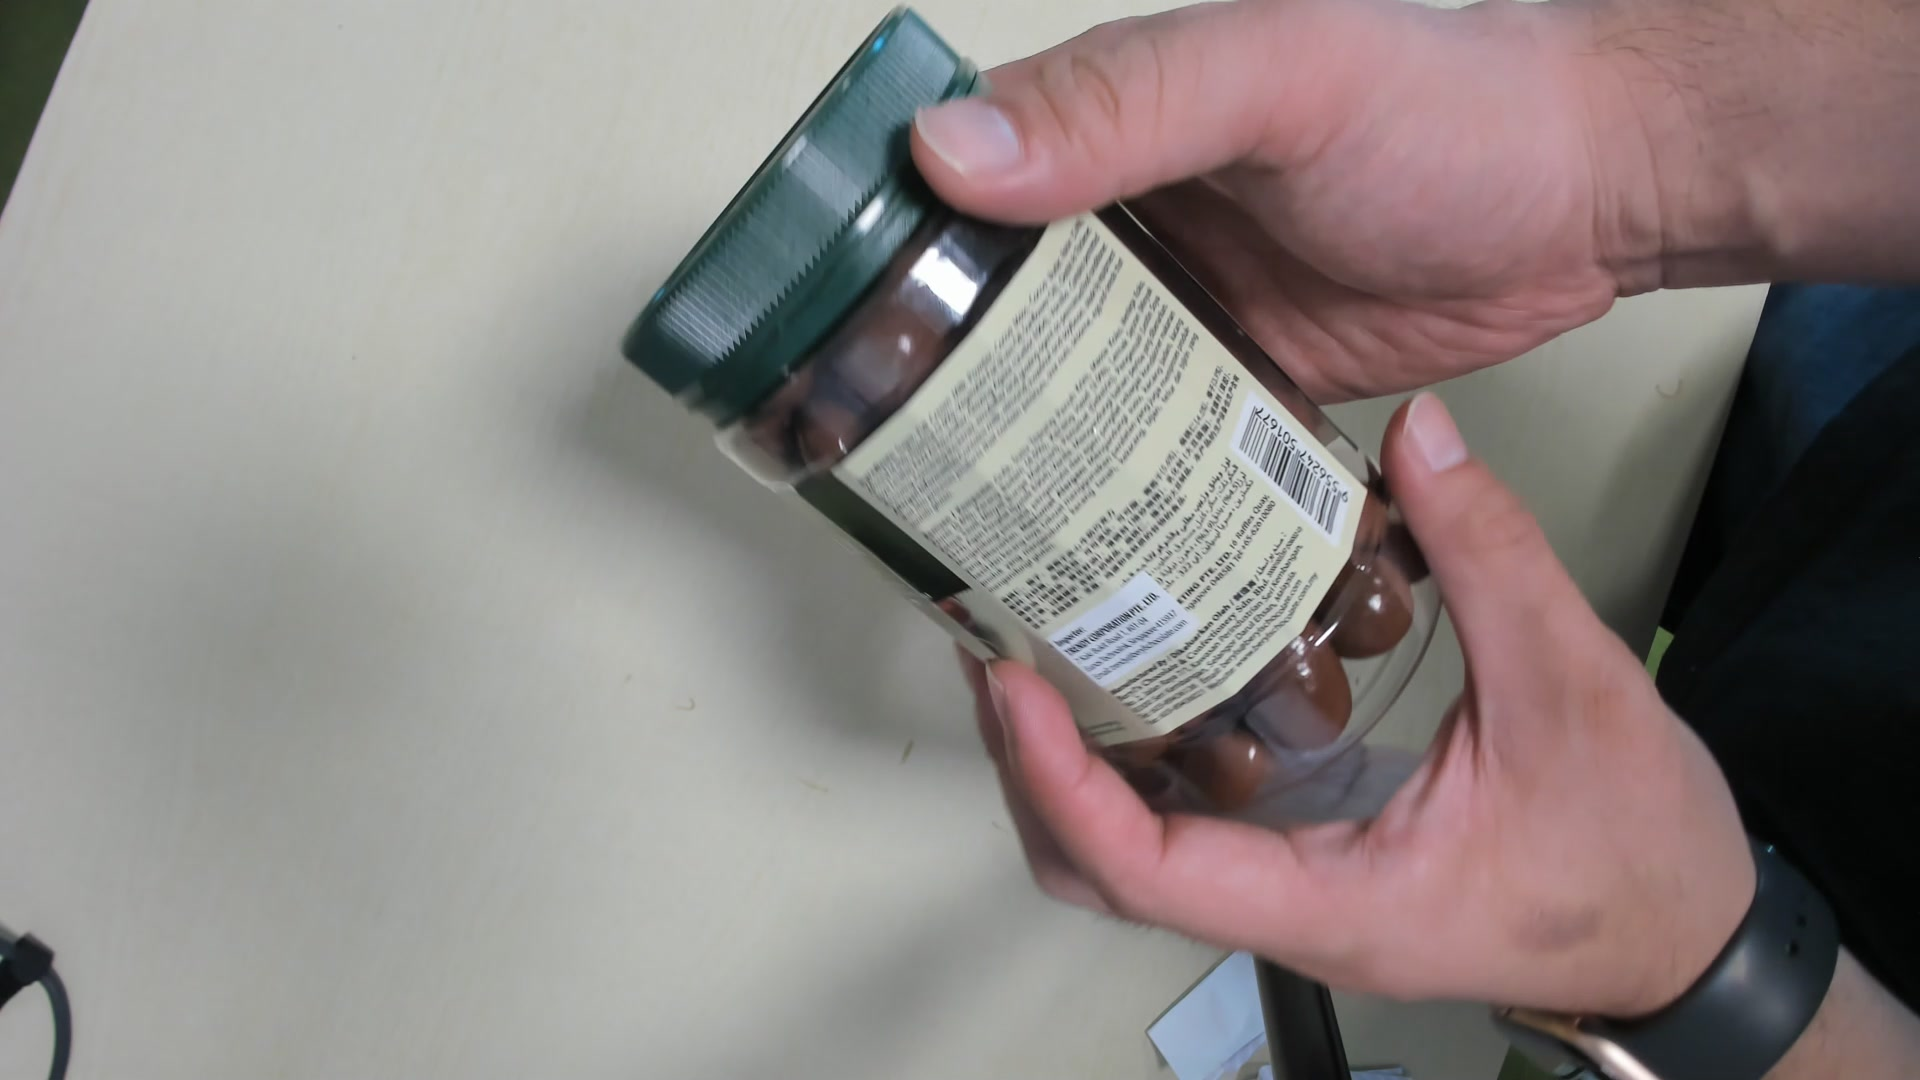SweetsChocolatesOthers_400-499g_Halal_Nonhealthy: (611, 17, 1453, 818)
